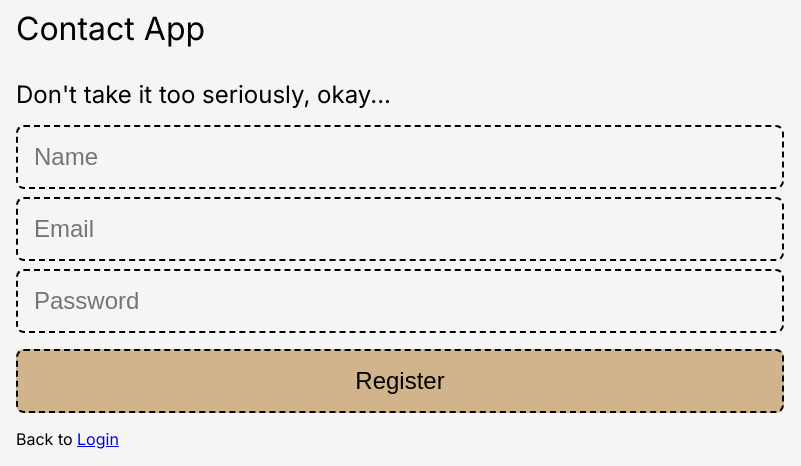
Register spec › should display login page when register success
Type "John Doe" into the field with placeholder "Name".
click(400, 157); type("John Doe")  # box [16,125,784,189]
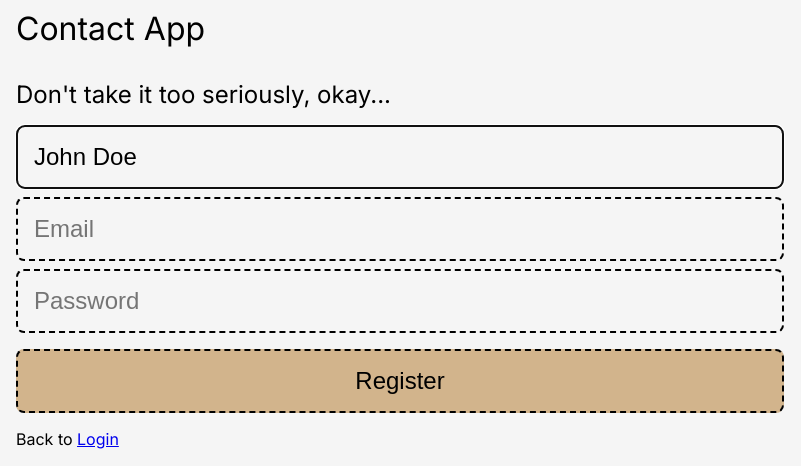
Type "john.doe@gmail.com" into the field with placeholder "Email".
click(400, 229); type("john.doe@gmail.com")  # box [16,197,784,261]
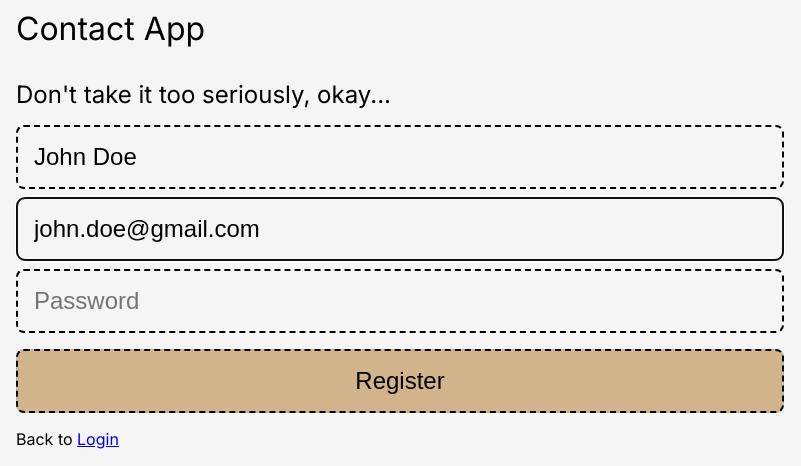
Type "password" into the password field with placeholder "Password".
click(400, 301); type("password")  # box [16,269,784,333]
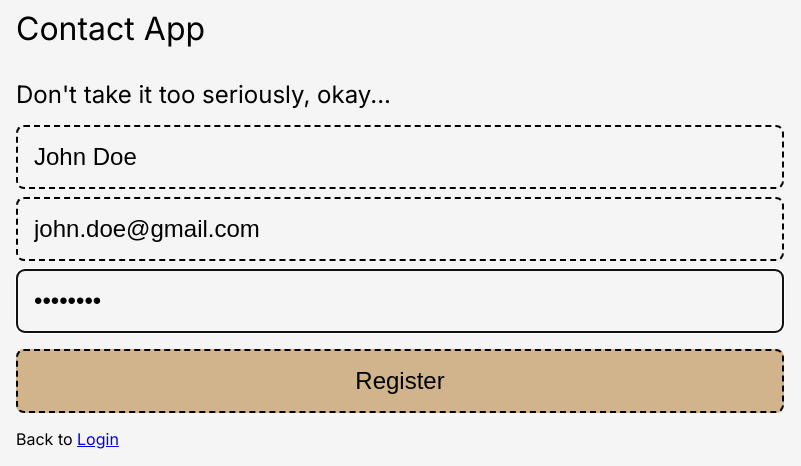
Click the button "Register".
click(400, 381)  # box [16,349,784,413]
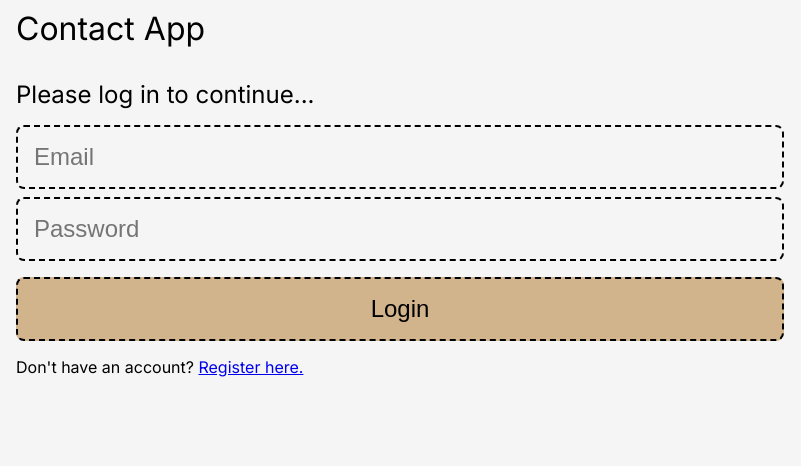
Now the button "Login" is shown, box [16,277,784,341]
